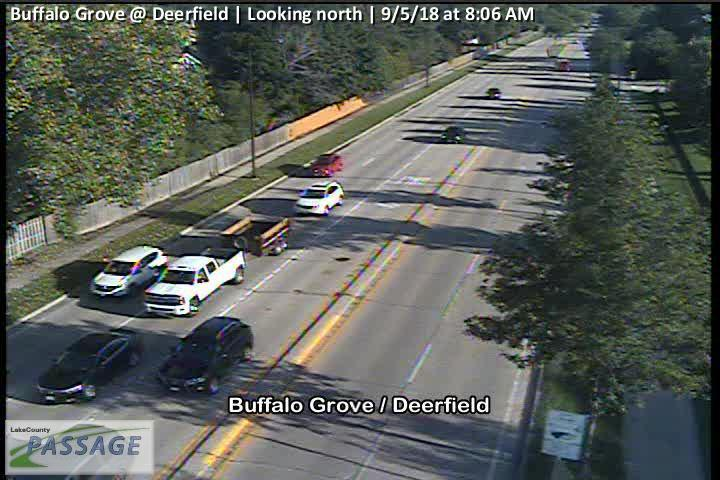Sedan: (33, 327, 143, 404), (156, 315, 253, 396), (89, 246, 164, 299), (292, 182, 343, 218), (309, 153, 344, 176), (440, 126, 464, 143), (486, 87, 500, 98), (557, 61, 572, 71)
Truck: (142, 247, 249, 316), (218, 211, 290, 256)
